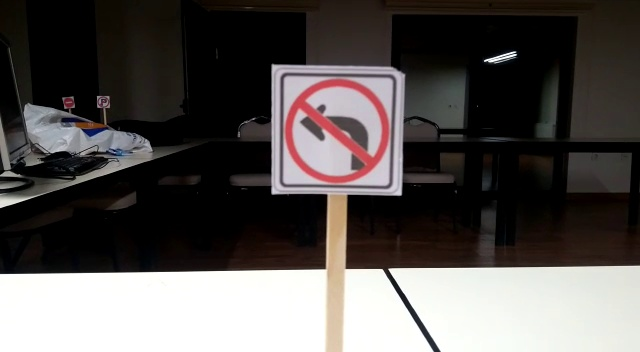sola_donulmez: (275, 78, 397, 188)
